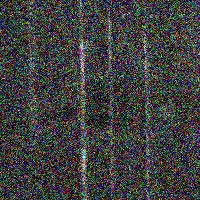inclusion: (82, 77, 199, 130)
scratches: (75, 4, 92, 199), (140, 3, 155, 199), (104, 2, 120, 168), (23, 10, 39, 168)
